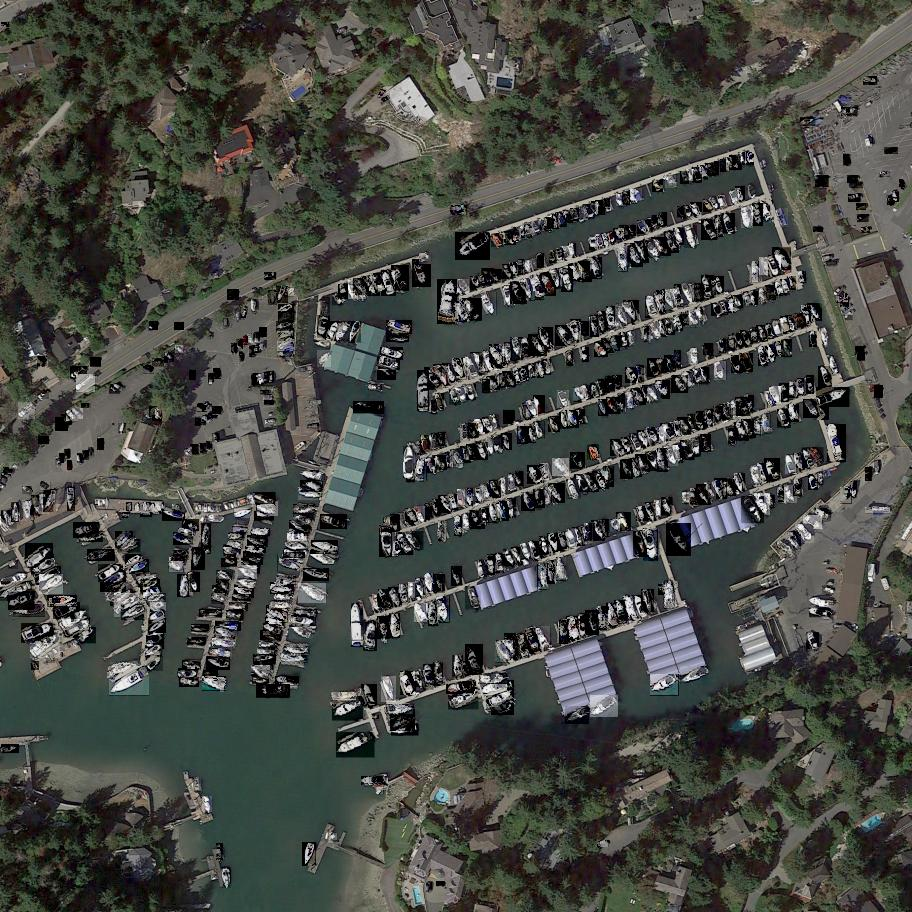large-vehicle: (76, 374, 97, 393), (18, 402, 36, 420), (70, 366, 88, 382), (868, 564, 875, 579)
ship: (110, 666, 150, 697), (456, 232, 492, 261), (336, 733, 376, 759), (437, 279, 458, 324), (666, 523, 691, 558), (31, 630, 61, 659), (58, 605, 89, 632), (332, 697, 364, 722), (448, 686, 481, 710), (25, 543, 54, 570), (827, 423, 846, 463), (0, 581, 35, 602), (22, 623, 56, 644), (816, 388, 851, 408), (742, 496, 766, 525), (591, 695, 620, 718), (650, 675, 680, 697), (105, 578, 131, 603), (64, 618, 92, 641), (486, 689, 515, 711), (115, 594, 141, 618), (100, 570, 127, 593), (680, 667, 711, 687), (389, 709, 416, 731), (620, 595, 642, 622), (298, 583, 326, 604), (412, 258, 431, 288), (643, 528, 660, 561), (466, 644, 484, 675), (40, 574, 65, 596), (32, 555, 55, 578), (35, 566, 61, 586), (257, 684, 291, 699), (392, 265, 410, 293), (462, 298, 483, 322), (53, 602, 81, 620), (9, 592, 37, 610), (98, 564, 124, 583), (505, 634, 524, 660), (110, 589, 137, 607), (351, 603, 362, 647), (290, 621, 315, 640), (625, 243, 644, 268), (613, 303, 632, 328), (565, 706, 590, 725), (462, 353, 480, 379), (417, 371, 429, 410), (363, 621, 378, 652), (379, 525, 393, 558), (12, 604, 45, 618), (424, 367, 444, 390), (489, 345, 509, 368), (311, 550, 338, 567), (482, 680, 509, 697), (525, 628, 542, 655), (496, 640, 515, 664), (556, 325, 576, 347), (528, 333, 547, 356), (362, 683, 378, 710), (321, 514, 348, 530), (471, 352, 489, 376), (73, 522, 100, 538), (623, 301, 641, 325), (534, 626, 552, 650), (278, 554, 303, 571), (400, 671, 417, 696), (267, 605, 289, 624), (773, 249, 792, 271), (381, 270, 397, 296), (121, 605, 147, 621), (397, 532, 415, 555), (539, 273, 557, 296), (510, 282, 528, 305), (434, 364, 451, 388), (482, 292, 499, 316), (44, 489, 61, 513), (765, 458, 782, 482), (755, 493, 772, 517), (382, 676, 397, 703), (566, 616, 581, 643), (353, 402, 384, 415), (405, 531, 425, 551), (202, 676, 227, 692), (465, 586, 481, 611), (652, 237, 672, 257), (539, 327, 555, 352), (634, 595, 650, 620), (641, 589, 657, 614), (447, 682, 477, 695), (634, 531, 649, 557), (452, 302, 471, 322), (795, 524, 814, 544), (334, 322, 352, 343), (362, 275, 380, 296), (437, 596, 451, 623), (644, 239, 662, 260), (298, 486, 323, 501), (701, 219, 718, 241), (662, 446, 679, 468), (289, 520, 312, 536), (256, 501, 279, 517), (443, 363, 459, 386), (215, 626, 238, 642), (663, 289, 679, 312), (634, 241, 650, 264), (311, 541, 339, 554), (386, 321, 412, 335), (585, 610, 599, 636), (302, 842, 317, 866), (478, 673, 508, 685), (251, 665, 272, 682), (583, 472, 600, 493), (301, 477, 323, 493), (403, 446, 414, 478), (664, 231, 680, 253), (520, 279, 536, 301), (303, 569, 330, 582), (87, 549, 114, 562), (682, 282, 696, 307), (511, 337, 525, 362), (614, 601, 628, 626), (453, 358, 468, 381), (116, 532, 134, 551), (548, 484, 566, 503), (110, 662, 141, 673), (377, 364, 397, 381), (371, 273, 388, 293), (141, 579, 161, 596), (804, 399, 821, 419), (377, 357, 401, 371), (130, 560, 151, 576), (207, 656, 231, 670), (646, 451, 662, 472), (646, 295, 660, 319), (391, 725, 419, 737), (818, 366, 833, 388), (802, 448, 817, 470), (760, 200, 775, 222), (578, 260, 593, 282), (566, 477, 581, 499), (561, 268, 574, 293), (55, 487, 67, 514), (553, 458, 571, 476), (79, 628, 98, 645), (781, 485, 798, 504), (672, 375, 689, 394), (527, 465, 544, 484), (381, 348, 404, 362), (118, 540, 141, 554), (378, 589, 394, 609), (1, 510, 17, 530), (616, 512, 632, 532), (697, 485, 713, 505), (575, 474, 591, 494), (326, 321, 341, 342), (414, 603, 429, 624), (388, 587, 403, 608), (573, 526, 588, 547), (178, 574, 191, 598), (348, 322, 362, 344), (49, 596, 77, 607), (768, 256, 782, 278), (589, 258, 603, 280), (664, 581, 675, 609), (592, 471, 609, 489), (241, 558, 260, 574), (148, 618, 167, 634), (568, 262, 584, 281), (174, 532, 194, 547), (239, 566, 259, 581), (702, 275, 714, 300), (803, 515, 823, 530), (742, 419, 757, 439), (734, 422, 749, 442), (736, 397, 751, 417), (681, 440, 696, 460), (532, 275, 544, 300), (606, 603, 618, 628), (629, 433, 644, 453), (271, 582, 294, 595), (377, 617, 390, 640), (254, 492, 277, 505), (483, 350, 496, 373), (192, 548, 205, 571), (685, 225, 698, 248), (281, 653, 308, 664), (243, 552, 264, 566), (234, 584, 255, 598), (529, 541, 543, 562), (522, 492, 536, 513), (635, 455, 652, 472), (354, 279, 370, 297), (661, 423, 677, 441), (655, 380, 671, 398), (606, 397, 622, 415), (611, 439, 627, 457), (497, 500, 510, 522), (416, 459, 429, 481), (758, 463, 771, 485), (551, 269, 564, 291), (438, 495, 453, 514), (146, 635, 165, 650), (663, 317, 678, 336), (647, 359, 662, 378), (793, 454, 808, 473), (294, 513, 314, 527), (776, 208, 790, 228), (592, 520, 606, 540), (620, 460, 634, 480), (284, 541, 307, 553), (318, 316, 330, 339), (162, 510, 185, 522), (809, 596, 832, 608), (291, 616, 316, 627), (300, 470, 325, 481), (390, 614, 401, 639), (201, 523, 212, 548), (216, 621, 241, 632), (415, 578, 428, 599), (187, 572, 200, 593), (740, 352, 753, 373), (715, 361, 728, 382), (722, 214, 735, 235), (715, 478, 728, 499), (533, 395, 546, 416), (629, 457, 642, 478), (278, 336, 295, 352), (147, 657, 164, 673), (685, 310, 701, 327), (719, 404, 735, 421), (807, 304, 823, 321), (630, 388, 646, 405), (405, 508, 420, 526), (145, 645, 163, 660), (645, 428, 660, 446), (722, 479, 737, 497), (570, 452, 585, 470), (471, 511, 485, 530), (489, 479, 503, 498), (144, 588, 163, 602), (769, 386, 783, 405), (777, 409, 791, 428), (503, 549, 517, 568), (704, 482, 718, 501), (557, 390, 571, 409), (540, 488, 554, 507), (260, 630, 282, 642), (742, 206, 754, 228), (212, 648, 232, 661), (263, 624, 283, 637), (788, 531, 801, 551), (807, 632, 820, 652), (618, 246, 628, 272), (538, 564, 548, 590), (733, 473, 746, 493), (548, 534, 561, 554), (450, 450, 465, 467), (647, 386, 662, 403), (810, 447, 825, 464), (752, 203, 763, 226), (597, 311, 608, 334), (570, 320, 581, 343), (492, 705, 515, 716), (452, 655, 463, 678), (425, 573, 437, 594), (480, 484, 494, 502), (125, 554, 143, 568), (814, 508, 832, 522), (678, 417, 692, 435), (785, 315, 799, 333), (637, 430, 651, 448), (603, 466, 615, 487), (424, 665, 434, 690), (759, 257, 772, 276), (662, 497, 675, 516), (556, 532, 569, 551), (566, 410, 579, 429), (521, 544, 534, 563), (386, 705, 413, 714), (294, 505, 316, 516), (31, 495, 42, 517), (39, 493, 50, 515), (248, 536, 268, 548), (255, 511, 275, 523), (317, 351, 332, 367), (433, 455, 448, 471), (148, 626, 164, 641), (182, 660, 202, 672), (147, 594, 167, 606), (828, 355, 840, 375), (786, 455, 798, 475), (597, 606, 607, 630), (539, 536, 551, 556), (278, 329, 295, 343), (502, 371, 516, 388), (217, 570, 234, 584), (778, 540, 795, 554), (625, 367, 639, 384), (527, 401, 541, 418), (278, 311, 296, 324), (276, 287, 289, 305), (223, 544, 241, 557), (665, 355, 678, 373), (511, 547, 524, 565), (451, 566, 462, 587), (23, 500, 34, 521), (801, 305, 812, 326), (253, 654, 276, 664), (658, 448, 668, 471), (433, 663, 443, 686), (556, 558, 566, 581), (476, 442, 488, 461), (673, 228, 685, 247), (700, 434, 712, 453), (732, 355, 744, 374), (645, 503, 657, 522), (533, 421, 545, 440), (533, 490, 545, 509), (486, 376, 501, 391), (520, 633, 529, 658), (587, 445, 601, 461), (414, 506, 427, 523), (466, 444, 479, 461), (482, 268, 495, 285), (211, 593, 228, 606), (756, 325, 769, 342), (741, 331, 754, 348), (548, 416, 561, 433), (504, 285, 514, 307), (178, 668, 198, 679), (180, 677, 200, 688), (137, 577, 159, 587), (809, 609, 831, 619), (566, 529, 577, 549), (501, 433, 513, 451), (428, 602, 437, 626), (79, 534, 103, 543), (67, 487, 76, 511), (840, 487, 852, 505), (782, 340, 794, 358), (547, 560, 556, 584), (621, 437, 633, 455), (284, 550, 305, 560), (466, 424, 480, 439), (456, 279, 470, 294), (648, 324, 662, 339), (582, 205, 596, 220), (751, 466, 761, 487), (713, 277, 724, 296), (696, 411, 707, 430), (284, 647, 310, 655), (149, 610, 165, 623), (733, 333, 746, 349), (595, 342, 608, 358), (577, 321, 590, 337), (656, 291, 665, 314), (607, 306, 616, 329), (482, 417, 494, 434), (420, 436, 432, 453), (182, 520, 199, 532), (691, 369, 703, 386), (276, 577, 296, 587), (361, 776, 386, 784), (390, 513, 400, 533), (398, 584, 408, 604), (237, 578, 257, 588), (758, 346, 768, 366), (780, 383, 790, 403), (675, 285, 684, 307), (766, 344, 777, 362), (682, 371, 693, 389), (201, 796, 212, 814), (590, 315, 599, 337), (599, 399, 610, 417), (517, 427, 528, 445), (690, 203, 703, 218), (730, 155, 743, 170), (815, 175, 830, 188), (794, 313, 807, 328), (637, 220, 650, 235), (602, 338, 615, 353), (573, 388, 586, 403), (426, 458, 438, 474), (212, 586, 228, 598), (655, 427, 667, 443), (595, 200, 607, 216), (560, 620, 568, 644), (435, 574, 445, 593), (489, 504, 499, 523), (508, 498, 517, 519), (222, 867, 231, 888), (277, 322, 294, 333), (279, 304, 296, 315), (424, 503, 435, 520), (475, 419, 486, 436), (460, 446, 471, 463), (234, 508, 251, 519), (772, 319, 783, 336), (462, 661, 473, 678), (294, 609, 317, 617), (387, 334, 410, 342), (213, 638, 236, 646), (491, 233, 504, 247), (731, 296, 744, 310), (555, 213, 568, 227), (503, 411, 516, 425), (265, 618, 285, 627), (372, 594, 382, 612), (320, 297, 330, 315), (470, 276, 482, 291), (466, 383, 476, 401), (456, 387, 468, 402), (449, 390, 461, 405), (207, 514, 225, 524), (169, 562, 184, 574), (226, 611, 244, 621), (711, 303, 723, 318), (762, 414, 771, 434), (697, 165, 709, 180), (789, 404, 799, 422), (819, 328, 828, 348), (560, 412, 570, 430), (605, 376, 615, 394), (540, 463, 550, 481), (203, 670, 219, 681), (338, 285, 349, 301), (503, 264, 514, 280), (765, 285, 776, 301), (715, 215, 723, 237), (692, 167, 703, 183), (735, 187, 746, 203), (575, 409, 586, 425), (590, 383, 601, 399), (331, 693, 356, 700), (348, 281, 357, 300), (457, 489, 466, 508), (1, 745, 20, 754), (695, 284, 704, 303), (584, 523, 593, 542), (642, 386, 652, 403), (780, 316, 790, 333), (414, 672, 424, 689), (527, 426, 537, 443), (490, 269, 502, 283), (703, 199, 715, 213), (563, 210, 575, 224), (506, 231, 517, 246), (216, 579, 231, 590), (863, 76, 878, 87), (748, 183, 759, 198), (774, 342, 785, 357), (619, 225, 630, 240), (519, 367, 530, 382), (277, 348, 295, 357), (485, 438, 494, 456), (475, 486, 484, 504), (479, 560, 488, 578), (191, 624, 209, 633), (230, 603, 248, 612), (674, 445, 683, 463), (199, 609, 222, 616), (490, 415, 500, 431), (151, 603, 167, 613), (488, 555, 496, 575), (700, 368, 710, 384), (780, 279, 790, 295), (542, 359, 552, 375), (527, 363, 537, 379), (294, 441, 307, 453), (665, 175, 677, 188), (818, 407, 830, 420), (613, 228, 625, 241), (561, 247, 573, 260), (419, 254, 433, 265), (703, 343, 714, 357), (706, 164, 717, 178), (709, 197, 720, 211), (531, 221, 542, 235), (658, 320, 667, 337), (714, 406, 723, 423), (522, 404, 531, 421), (259, 640, 278, 648), (693, 437, 701, 456), (496, 553, 504, 572), (510, 262, 520, 277), (684, 205, 694, 220), (687, 414, 697, 429), (729, 191, 739, 206), (594, 234, 604, 249), (613, 375, 623, 390), (269, 290, 278, 306), (449, 494, 458, 510), (461, 423, 469, 441), (480, 508, 489, 524), (221, 559, 237, 568), (809, 474, 818, 490), (794, 479, 802, 497), (842, 108, 858, 117), (806, 376, 814, 394), (797, 379, 805, 397), (620, 332, 629, 348), (612, 336, 621, 352), (580, 614, 586, 638), (636, 366, 644, 384), (515, 471, 524, 487), (333, 293, 344, 306), (822, 585, 835, 596), (634, 188, 645, 201), (499, 232, 509, 246), (287, 534, 307, 541), (455, 516, 462, 536), (478, 273, 488, 287), (505, 342, 512, 362), (523, 338, 530, 358), (276, 677, 299, 683), (253, 676, 270, 684), (706, 409, 714, 426), (435, 394, 444, 409), (179, 528, 194, 537), (674, 316, 683, 331), (246, 546, 265, 553), (12, 503, 19, 522), (254, 663, 273, 670), (187, 637, 206, 644), (611, 519, 622, 531), (677, 206, 687, 219), (653, 180, 663, 193), (315, 340, 331, 348), (228, 533, 244, 541), (850, 482, 858, 498), (719, 339, 727, 355), (800, 118, 816, 126), (583, 385, 591, 401), (508, 473, 515, 491), (752, 261, 758, 282), (680, 171, 689, 185), (774, 282, 783, 296), (602, 234, 611, 248), (569, 244, 578, 258), (570, 208, 579, 222), (637, 507, 646, 521), (618, 393, 625, 411), (271, 602, 291, 608), (438, 432, 446, 447), (513, 368, 521, 383), (866, 508, 890, 513), (659, 213, 667, 228), (652, 215, 660, 230), (728, 335, 736, 350), (659, 359, 667, 374), (723, 157, 733, 169), (628, 331, 636, 346), (556, 248, 564, 263), (654, 501, 662, 516), (433, 499, 440, 516), (409, 582, 416, 599), (745, 152, 754, 165), (627, 225, 636, 238), (251, 529, 270, 535), (275, 594, 291, 601), (394, 541, 402, 555), (463, 513, 470, 529), (232, 527, 248, 534), (174, 550, 188, 558), (751, 292, 759, 306), (729, 297, 736, 313), (767, 323, 774, 339), (690, 348, 697, 364), (674, 351, 681, 367), (788, 276, 796, 290), (537, 363, 544, 379), (258, 648, 276, 654), (538, 219, 547, 231), (603, 519, 609, 537), (728, 428, 735, 443), (537, 254, 544, 269), (578, 207, 585, 222), (552, 215, 559, 230), (720, 302, 728, 315), (686, 169, 694, 182), (608, 232, 616, 245), (623, 192, 631, 205), (767, 495, 775, 508), (431, 433, 437, 450), (599, 379, 605, 396), (285, 288, 295, 298), (45, 654, 55, 664), (149, 406, 158, 417), (483, 379, 490, 393), (431, 400, 438, 414), (228, 541, 242, 548), (744, 292, 751, 306), (810, 332, 817, 346), (567, 351, 574, 365), (591, 202, 598, 216), (248, 493, 256, 505), (778, 486, 784, 502), (549, 251, 557, 263), (690, 488, 696, 504), (658, 584, 666, 596), (627, 393, 633, 409), (438, 521, 443, 540), (866, 468, 873, 481), (798, 271, 805, 284), (616, 194, 623, 207), (545, 218, 552, 231), (499, 373, 505, 388), (155, 503, 164, 513), (760, 288, 766, 303), (731, 400, 736, 418), (765, 391, 771, 406), (790, 382, 796, 397), (583, 347, 589, 362), (500, 478, 505, 495), (233, 595, 250, 600), (748, 395, 753, 412), (675, 420, 680, 437), (756, 418, 761, 435), (225, 554, 237, 561), (170, 557, 184, 563), (682, 313, 689, 325), (9, 560, 18, 569), (495, 436, 500, 452), (445, 452, 450, 468), (152, 414, 162, 422), (155, 410, 163, 420), (753, 327, 758, 343), (416, 441, 422, 454), (195, 778, 201, 791), (682, 491, 688, 504), (119, 423, 126, 434), (874, 461, 881, 472), (217, 844, 222, 859), (307, 423, 319, 429), (468, 489, 472, 507), (31, 661, 39, 670), (252, 300, 258, 312), (739, 153, 745, 165), (721, 159, 727, 171), (126, 502, 133, 512), (137, 571, 147, 578), (698, 308, 703, 322), (454, 284, 460, 295), (369, 385, 382, 390), (513, 228, 518, 241), (818, 472, 823, 485), (647, 219, 652, 232), (146, 502, 152, 512), (134, 503, 140, 513), (719, 196, 724, 208), (521, 226, 526, 238), (525, 260, 530, 272), (519, 260, 523, 275), (644, 327, 648, 342), (330, 833, 338, 840), (377, 788, 385, 795), (359, 293, 366, 301), (715, 161, 719, 175), (507, 680, 514, 688), (631, 190, 636, 201), (172, 505, 181, 511), (527, 224, 531, 237), (150, 503, 155, 513), (241, 308, 246, 318), (605, 199, 610, 209), (204, 548, 211, 555), (590, 237, 594, 249), (571, 336, 579, 342), (143, 502, 148, 511), (383, 518, 389, 525), (73, 643, 80, 649), (123, 512, 129, 518), (54, 649, 60, 655), (407, 477, 415, 481), (108, 670, 112, 678), (141, 513, 151, 516), (101, 500, 106, 506), (372, 715, 379, 719), (98, 500, 100, 506), (60, 653, 63, 656), (95, 501, 97, 505)
small-vehicle: (55, 417, 69, 432), (451, 205, 468, 215), (66, 410, 79, 423), (61, 415, 73, 427), (72, 408, 84, 420), (842, 304, 854, 316), (834, 286, 846, 298), (37, 390, 50, 401), (90, 357, 102, 368), (228, 290, 240, 301), (37, 356, 48, 367), (164, 352, 175, 363), (143, 365, 155, 375), (837, 294, 849, 304), (110, 385, 121, 395), (1, 472, 12, 482), (197, 403, 208, 413), (377, 88, 387, 99), (840, 297, 850, 308), (38, 436, 50, 445), (191, 444, 200, 456), (152, 359, 164, 368), (597, 840, 609, 849), (847, 176, 859, 185), (865, 135, 873, 148), (848, 195, 861, 203), (875, 386, 883, 399), (149, 322, 159, 332), (41, 481, 52, 490), (22, 487, 33, 496), (185, 446, 194, 457), (214, 368, 223, 379), (885, 148, 899, 155), (114, 383, 126, 391), (846, 309, 854, 321), (858, 215, 870, 223), (212, 433, 221, 443), (212, 407, 222, 416), (175, 345, 184, 355), (381, 96, 391, 105), (856, 347, 866, 356), (195, 418, 206, 426), (247, 333, 255, 344), (236, 339, 244, 350), (252, 374, 259, 386), (264, 273, 276, 280), (97, 439, 104, 451), (849, 183, 863, 189), (844, 154, 851, 166), (892, 191, 899, 203), (427, 881, 434, 893), (259, 328, 267, 338), (9, 462, 19, 470), (202, 415, 212, 423), (822, 254, 832, 262), (858, 352, 866, 362), (59, 453, 66, 464), (200, 443, 207, 454), (189, 370, 196, 381), (250, 345, 256, 357), (257, 374, 264, 384), (252, 288, 262, 295), (64, 450, 71, 460), (206, 441, 213, 451), (175, 323, 185, 330), (207, 373, 214, 383), (857, 204, 867, 211), (887, 196, 894, 206), (870, 385, 880, 392), (269, 371, 275, 382), (83, 450, 89, 461), (207, 413, 218, 419), (336, 28, 347, 34), (824, 261, 837, 266), (203, 402, 212, 409), (67, 460, 73, 470), (265, 419, 274, 425), (264, 373, 270, 382), (254, 332, 260, 341), (4, 468, 13, 474), (55, 456, 60, 466), (900, 180, 905, 190), (243, 336, 248, 345), (239, 352, 244, 361), (159, 358, 168, 363), (436, 882, 445, 887), (879, 172, 890, 176), (264, 395, 272, 400), (813, 227, 823, 231), (261, 340, 265, 349), (89, 448, 93, 457), (862, 228, 869, 233), (224, 318, 228, 326), (232, 344, 236, 352), (82, 404, 89, 408), (265, 401, 274, 404), (260, 391, 269, 394), (256, 344, 259, 352), (78, 454, 81, 462), (2, 23, 8, 27)
